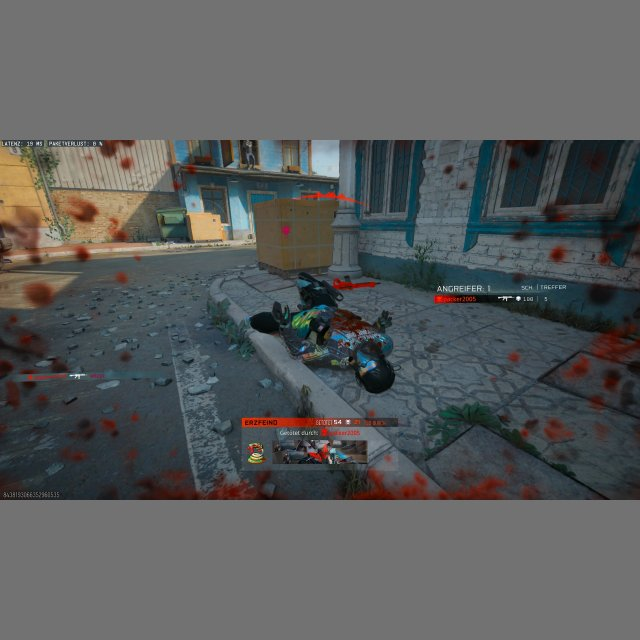head: (358, 359, 394, 393), (376, 333, 393, 355)
